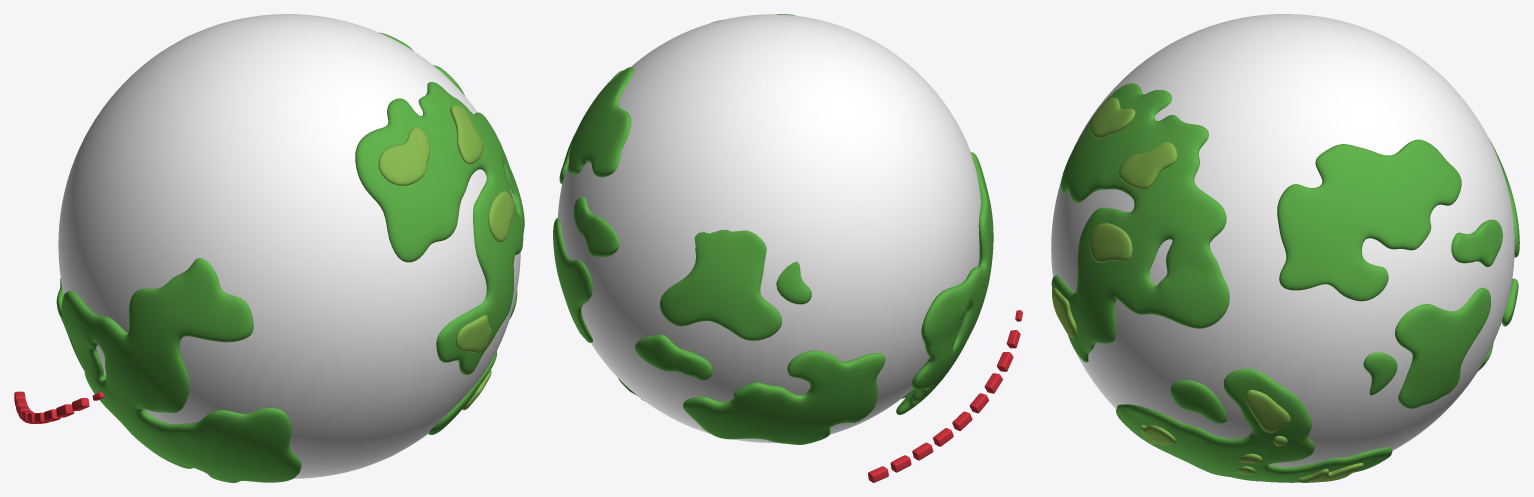
Rendered from globe-3d-animated-icon-1153427446316.glb.
3 renders of one model, left to right at view 1: azimuth 30°, elevation 25°; view 2: azimuth 150°, elevation 25°; view 3: azimuth 270°, elevation 25°, orthographic. The views are drawn at different scales.
Parts seen in each view (by area): view 1: Sphere; view 2: Sphere; view 3: Sphere.
Part boxes in pixels (bbox=[...]): Sphere: bbox=[56, 14, 524, 482]; Sphere: bbox=[553, 14, 993, 444]; Sphere: bbox=[1051, 14, 1519, 482].
Size of what is drawn, in the model's own units: 3.88 by 3.5 by 3.52.
